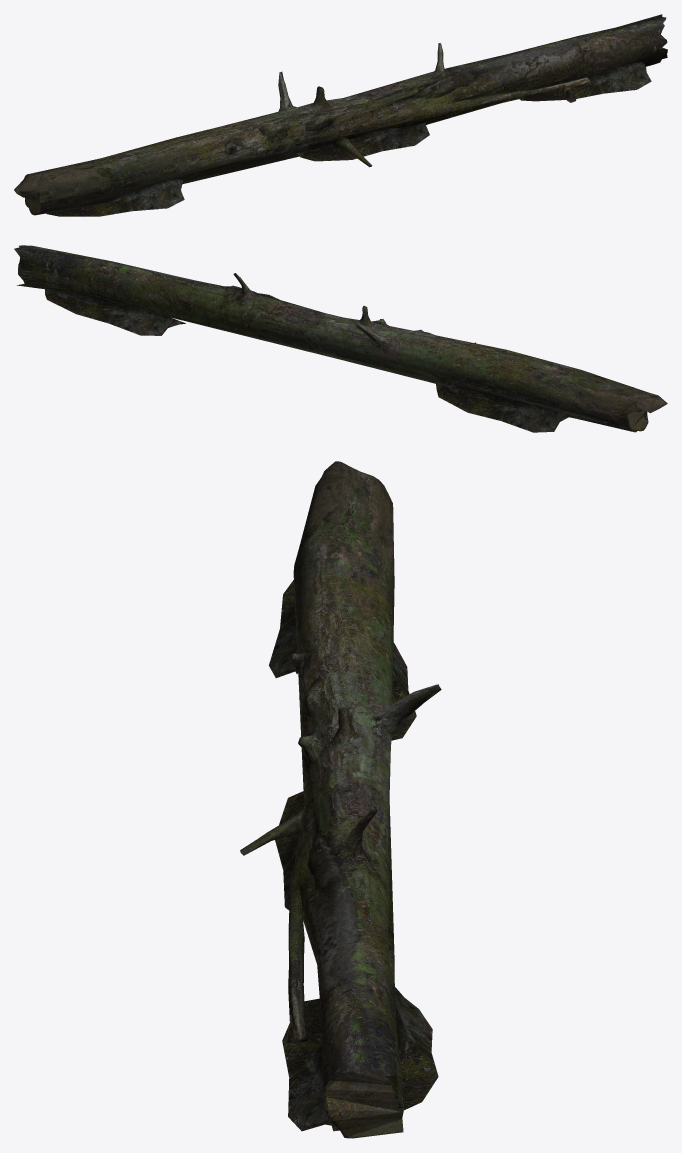
File: PW_Tree_Log_02.glb
3 views of the same model, one above another, from view 1: azimuth 30°, elevation 25°; view 2: azimuth 150°, elevation 25°; view 3: azimuth 270°, elevation 25° (orthographic). The views are drawn at different scales.
Visible parts, largest first — view 1: PW_Tree_Log_02_LOD0; view 2: PW_Tree_Log_02_LOD0; view 3: PW_Tree_Log_02_LOD0.
Part boxes in pixels (<box>): PW_Tree_Log_02_LOD0: <box>14,14,667,216</box>; PW_Tree_Log_02_LOD0: <box>14,245,667,432</box>; PW_Tree_Log_02_LOD0: <box>240,461,441,1138</box>.
Size of the model in its own units: 7.19 by 0.8476 by 0.9792.
Materials: 1 (1 with a texture image).
